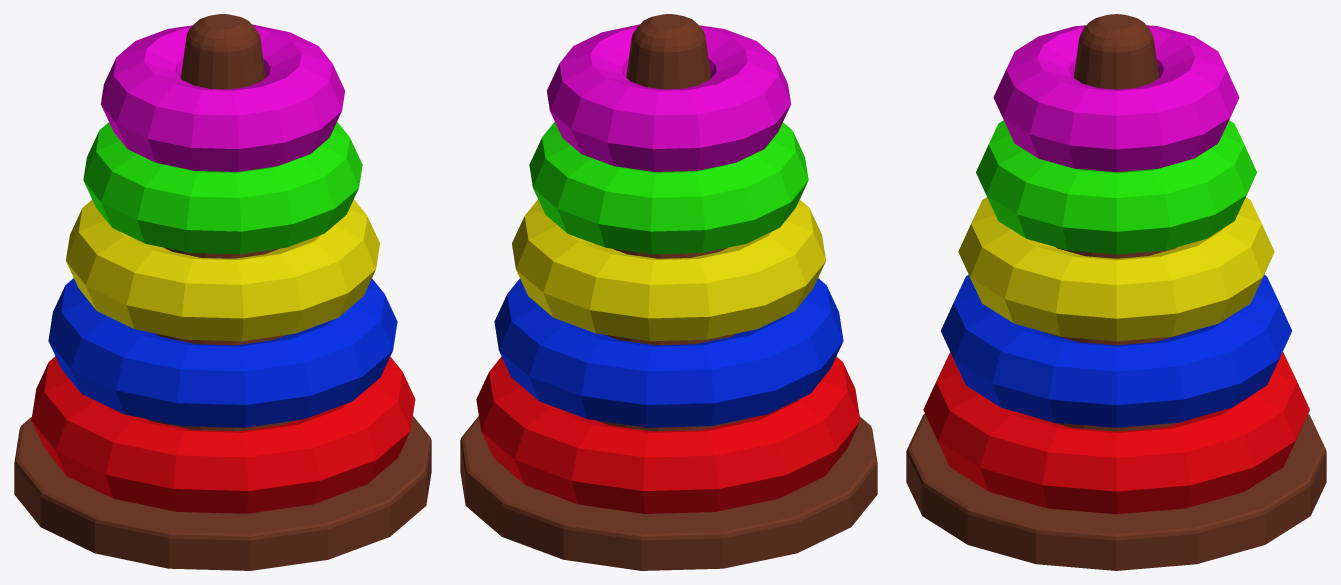
File: StackingRingsUpload.fbx
The picture shows the model from 3 angles, left to right: view 1: azimuth 30°, elevation 25°; view 2: azimuth 150°, elevation 25°; view 3: azimuth 270°, elevation 25°; orthographic projection.
Parts seen in each view (by area): view 1: Base, Torus.001, Torus.002, Torus.003, Torus.005, Torus.004; view 2: Base, Torus.001, Torus.002, Torus.003, Torus.005, Torus.004; view 3: Base, Torus.001, Torus.002, Torus.003, Torus.005, Torus.004.
Part boxes in pixels (left/top/right/bottom): Base: left=14, top=14, right=431, bottom=570; Torus.001: left=31, top=356, right=415, bottom=513; Torus.002: left=48, top=278, right=397, bottom=427; Torus.003: left=66, top=199, right=379, bottom=341; Torus.005: left=101, top=24, right=344, bottom=171; Torus.004: left=83, top=122, right=362, bottom=254; Base: left=460, top=14, right=877, bottom=570; Torus.001: left=476, top=356, right=860, bottom=513; Torus.002: left=494, top=278, right=843, bottom=427; Torus.003: left=512, top=199, right=825, bottom=341; Torus.005: left=547, top=24, right=790, bottom=171; Torus.004: left=529, top=122, right=808, bottom=254; Base: left=906, top=14, right=1326, bottom=570; Torus.001: left=923, top=352, right=1309, bottom=514; Torus.002: left=941, top=275, right=1291, bottom=427; Torus.003: left=958, top=197, right=1274, bottom=341; Torus.005: left=993, top=25, right=1239, bottom=172; Torus.004: left=976, top=120, right=1256, bottom=254.
Bounding box in the file's own units: 47.83 × 57.78 × 47.83.
